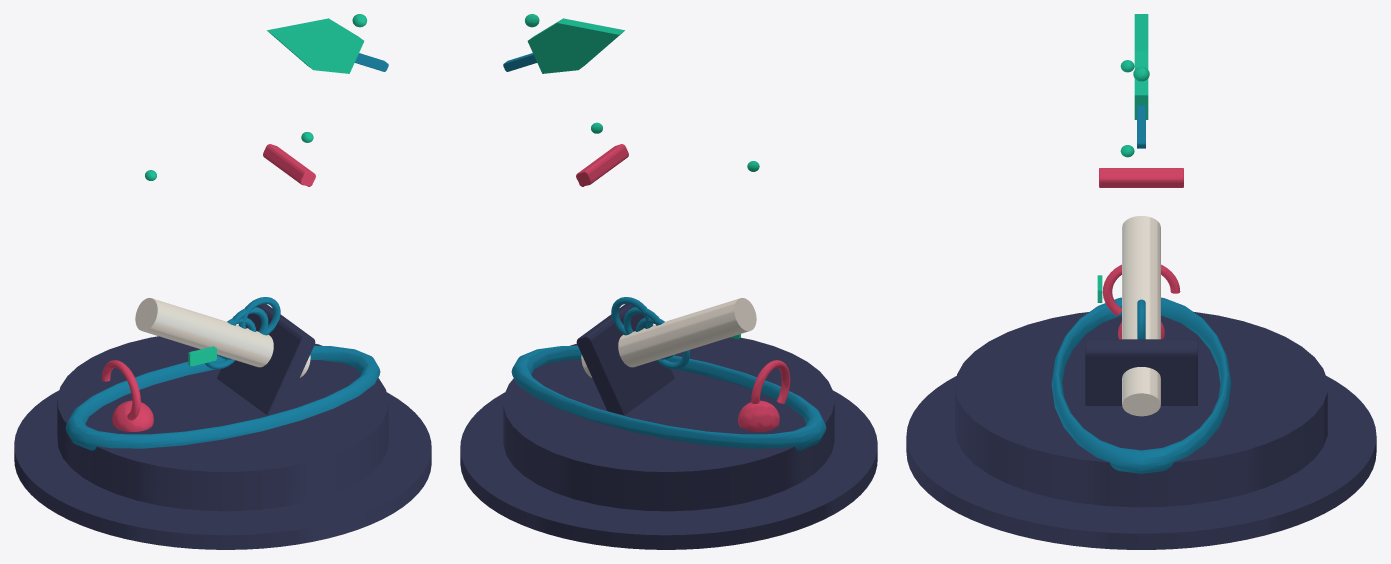
The model's file is 0581_伟大的发明图鉴_第一张X光片.glb.
The picture shows the model from 3 angles, left to right: view 1: azimuth 30°, elevation 25°; view 2: azimuth 150°, elevation 25°; view 3: azimuth 270°, elevation 25°; orthographic projection. The views are drawn at different scales.
Parts seen in each view (by area): view 1: card_0581; view 2: card_0581; view 3: card_0581.
Part boxes in pixels (box(x1,y1,x2,y2)): card_0581: box(14, 14, 431, 549); card_0581: box(460, 14, 877, 549); card_0581: box(906, 14, 1376, 549).
Size of the model in its own units: 0.8876 by 1 by 0.9033.
